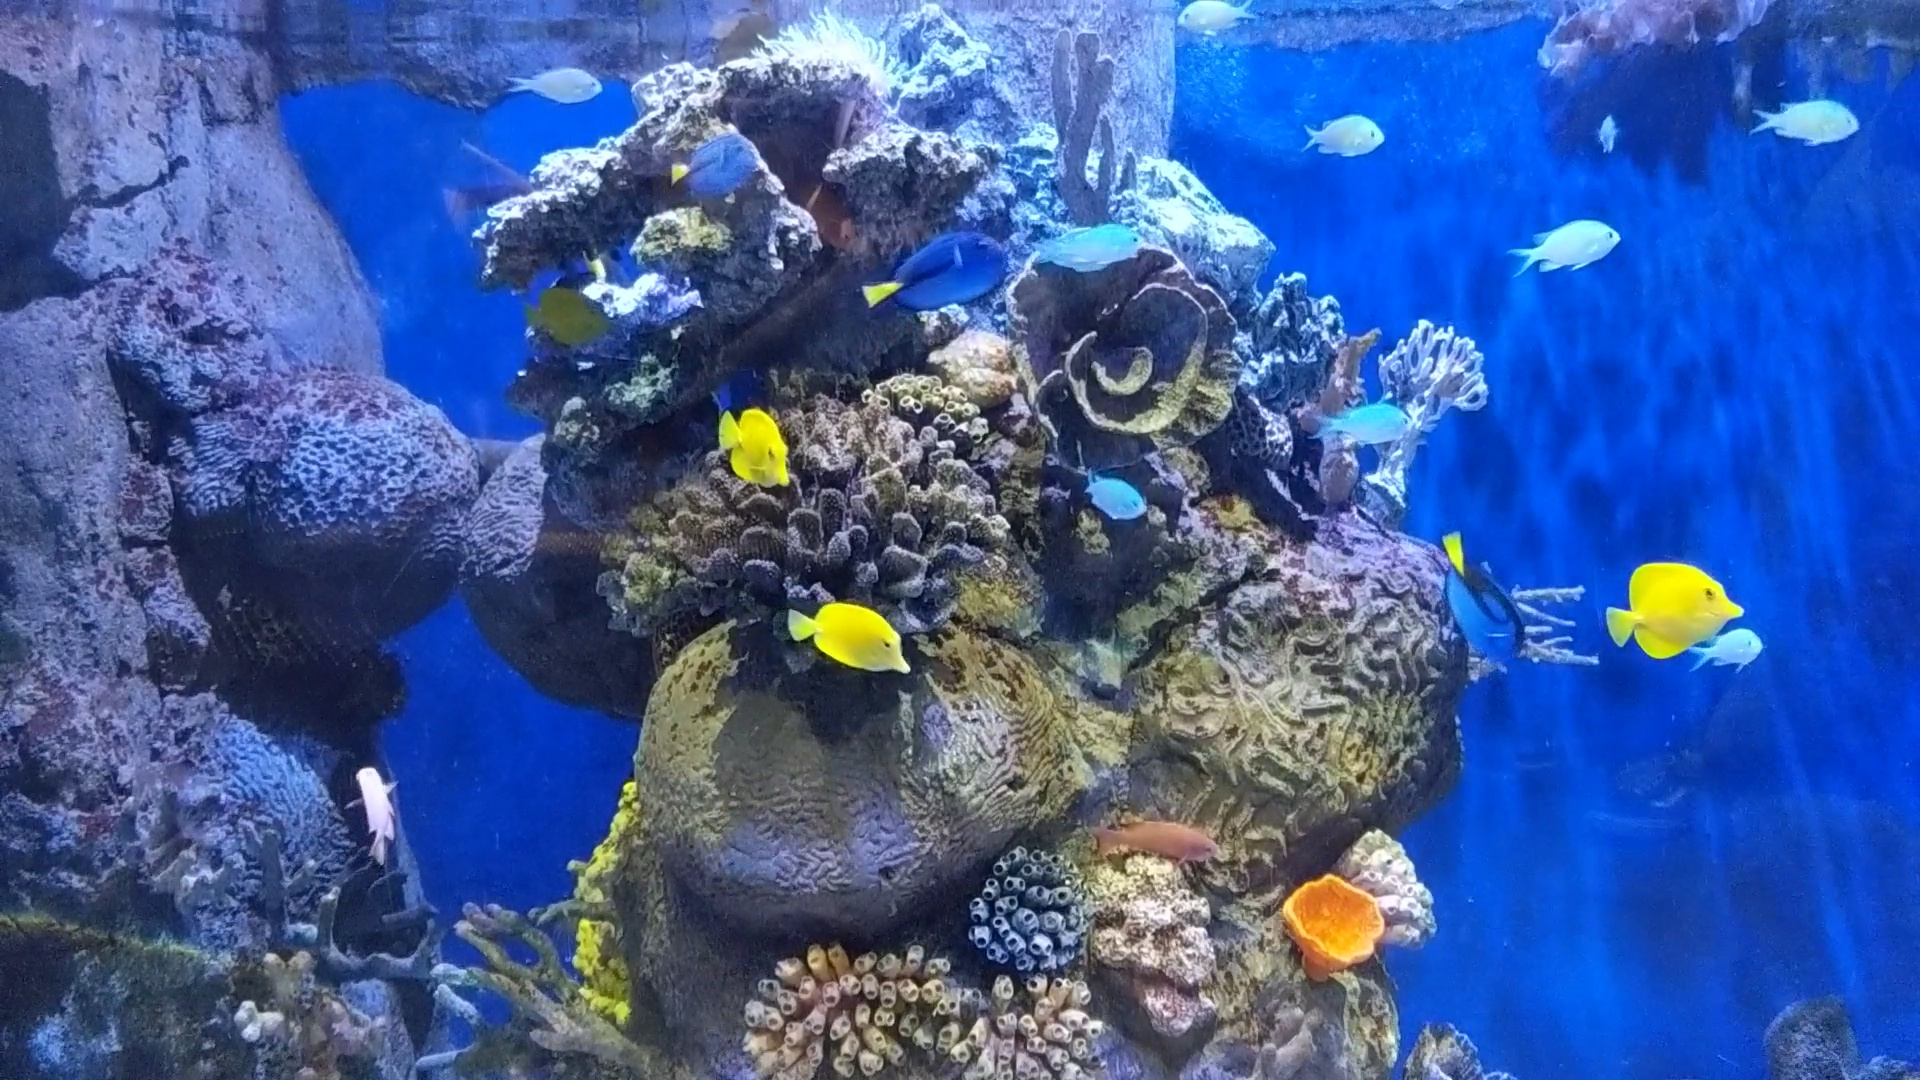blue tang surgeonfish: (1433, 524, 1527, 665), (858, 235, 1011, 313), (666, 137, 760, 196)
damselfish: (1509, 215, 1619, 274), (1031, 222, 1137, 274), (1749, 98, 1862, 146), (1309, 397, 1415, 447), (500, 67, 607, 111), (1687, 624, 1774, 676), (1304, 109, 1389, 158), (1040, 225, 1150, 261), (1174, 0, 1265, 40), (1083, 475, 1153, 525), (1597, 111, 1623, 158)
saddle butterfly fish: (1611, 558, 1746, 655), (786, 597, 911, 676), (717, 400, 794, 487), (527, 282, 626, 342)
